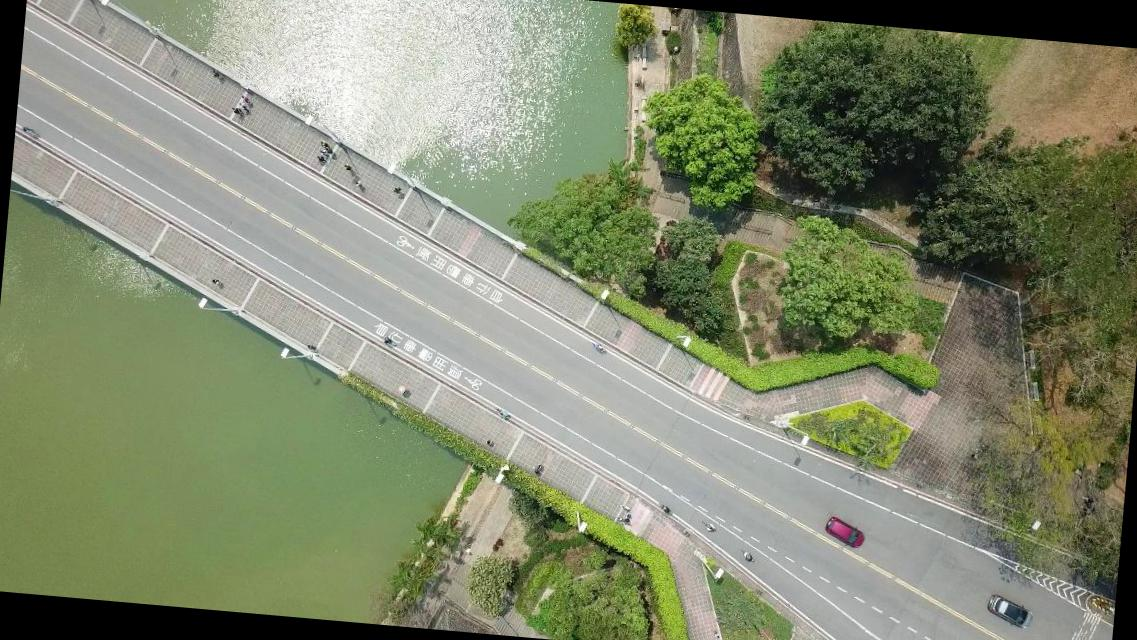vehicle: (985, 594, 1034, 628), (822, 516, 867, 552)
